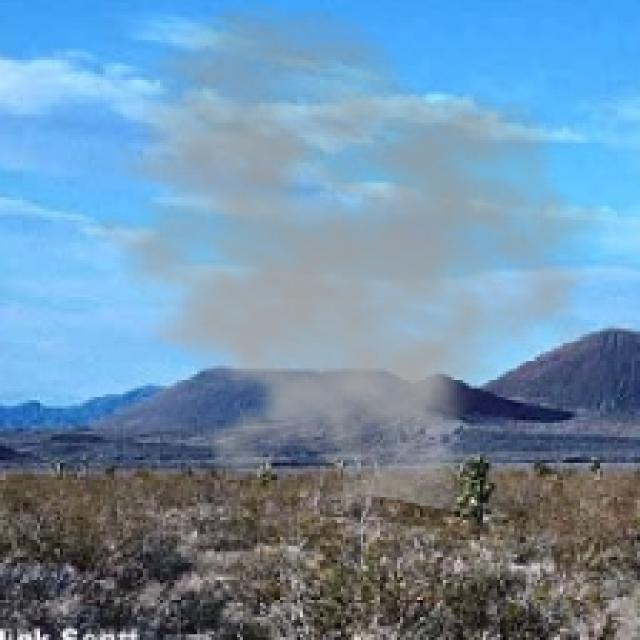Smoke: (62, 0, 612, 515)
